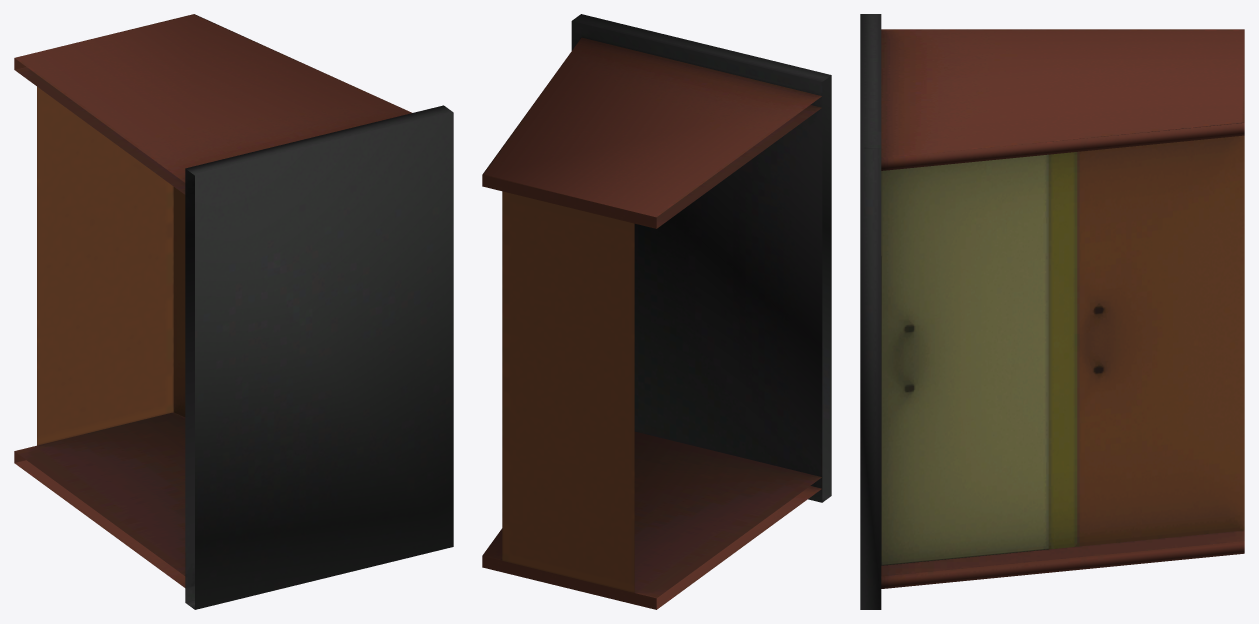
File: nt_bedside_drawer_LOD3.obj
3 views of the same model, side by side, from view 1: azimuth 30°, elevation 25°; view 2: azimuth 150°, elevation 25°; view 3: azimuth 270°, elevation 25° (orthographic). The views are drawn at different scales.
Parts seen in each view (by area): view 1: mtl_nt_bedside_drawer; view 2: mtl_nt_bedside_drawer; view 3: mtl_nt_bedside_drawer.
Part boxes in pixels (x1=…): mtl_nt_bedside_drawer: x1=14, y1=14, x2=453, y2=609; mtl_nt_bedside_drawer: x1=482, y1=14, x2=831, y2=609; mtl_nt_bedside_drawer: x1=860, y1=14, x2=1244, y2=609.
Bounding box in the file's own units: 57.69 × 92.56 × 69.85.
